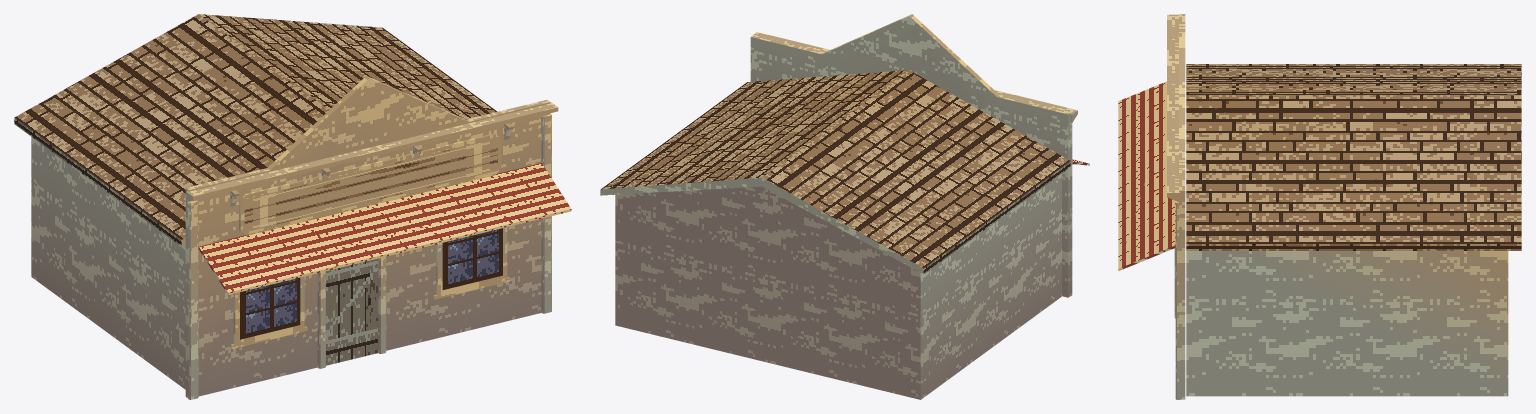
The model's file is wtown.facade__e_pediment.glb.
3 renders of one model, left to right at view 1: azimuth 30°, elevation 25°; view 2: azimuth 150°, elevation 25°; view 3: azimuth 270°, elevation 25°, orthographic. The views are drawn at different scales.
Visible parts, largest first — view 1: kit_roof, kit_front, kit_body, kit_card_panes, kit_awning, kit_trim, kit_windows; view 2: kit_body, kit_roof, kit_front, kit_trim; view 3: kit_roof, kit_body, kit_awning, kit_trim, kit_front.
Part boxes in pixels (bbox=[...]): kit_roof: bbox=[14, 14, 497, 246]; kit_front: bbox=[185, 76, 550, 397]; kit_body: bbox=[31, 137, 185, 389]; kit_card_panes: bbox=[240, 137, 502, 365]; kit_awning: bbox=[198, 163, 571, 294]; kit_trim: bbox=[186, 102, 558, 399]; kit_windows: bbox=[230, 227, 509, 348]; kit_body: bbox=[615, 173, 1061, 399]; kit_roof: bbox=[600, 70, 1070, 274]; kit_front: bbox=[750, 14, 1071, 297]; kit_trim: bbox=[752, 32, 1077, 295]; kit_roof: bbox=[1186, 64, 1521, 250]; kit_body: bbox=[1186, 251, 1508, 396]; kit_awning: bbox=[1118, 81, 1175, 270]; kit_trim: bbox=[1167, 14, 1179, 399]; kit_front: bbox=[1179, 14, 1185, 399].
Size of the model in its own units: 7.94 by 5.7 by 7.52.
6 materials, 6 textured.
